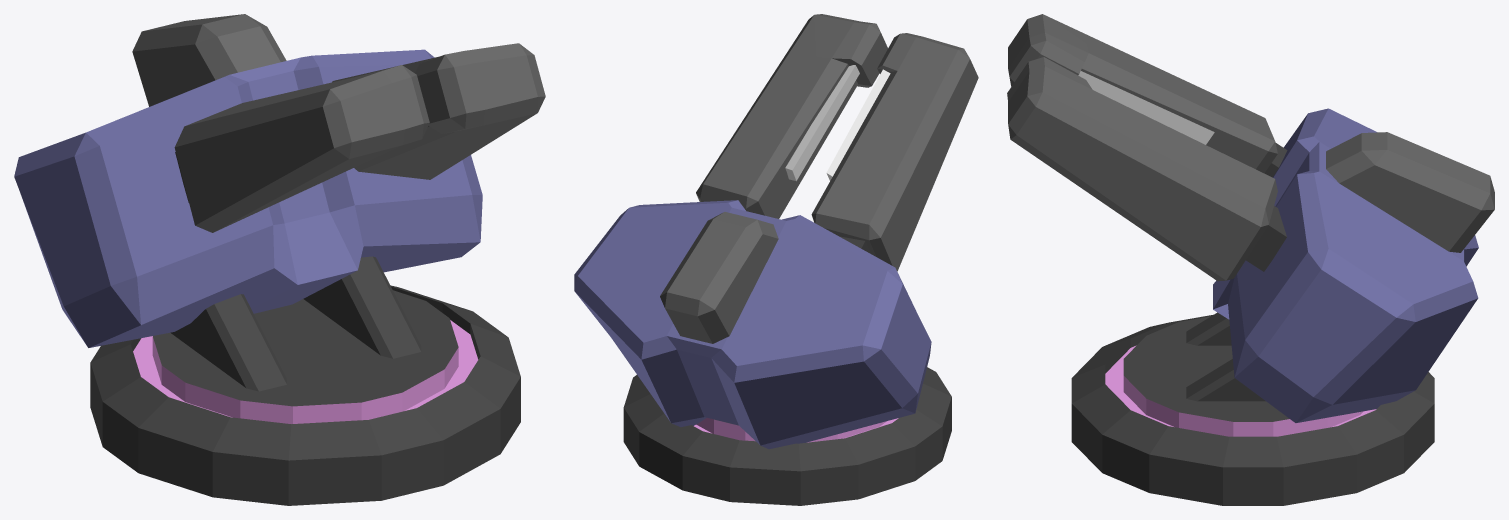
Rendered from Laser.fbx.
The picture shows the model from 3 angles, left to right: view 1: azimuth 30°, elevation 25°; view 2: azimuth 150°, elevation 25°; view 3: azimuth 270°, elevation 25°; orthographic projection. The views are drawn at different scales.
Parts seen in each view (by area): view 1: turret, base; view 2: turret, base, light; view 3: turret, base, light.
Part boxes in pixels (left/top/right/bottom): turret: left=14, top=14, right=545, bottom=391; base: left=90, top=285, right=520, bottom=505; turret: left=574, top=14, right=978, bottom=449; base: left=623, top=367, right=951, bottom=505; light: left=785, top=65, right=890, bottom=181; turret: left=1007, top=14, right=1494, bottom=422; base: left=1071, top=314, right=1434, bottom=505; light: left=1078, top=71, right=1214, bottom=144.
Bounding box in the file's own units: 77.51 × 82.21 × 95.87.
